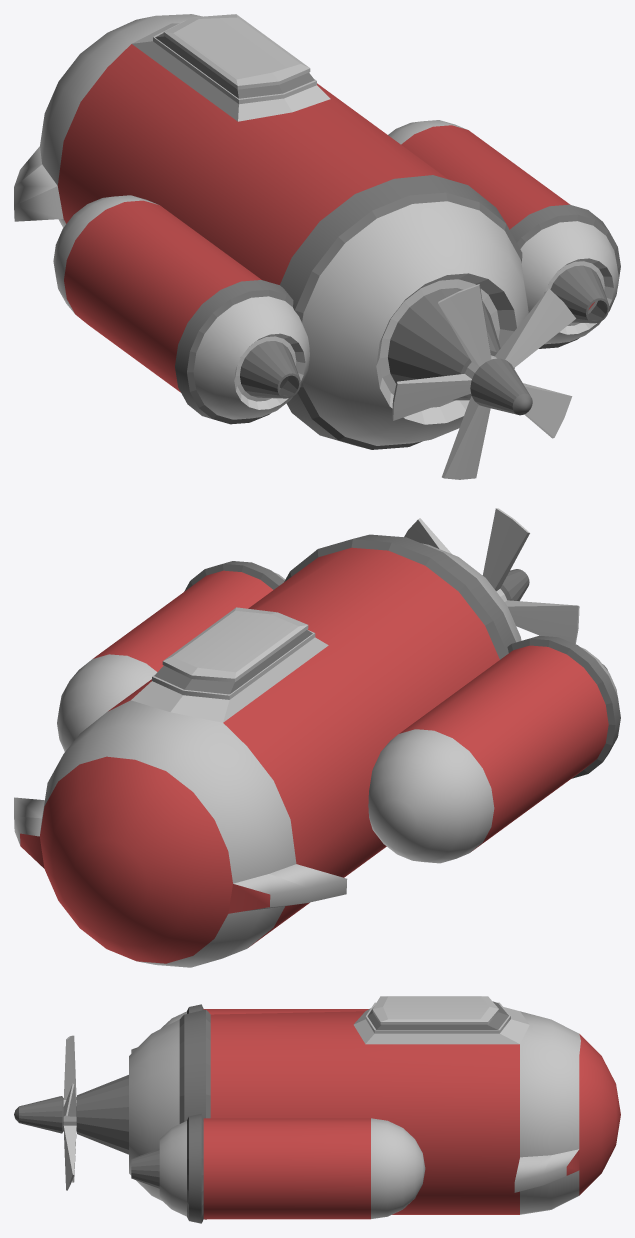
The model's file is Blimp.fbx.
3 renders of one model, top to bottom at view 1: azimuth 30°, elevation 25°; view 2: azimuth 150°, elevation 25°; view 3: azimuth 270°, elevation 25°, orthographic. The views are drawn at different scales.
Parts seen in each view (by area): view 1: Airship, LeftTank, RightTank, Propeller; view 2: Airship, LeftTank, RightTank, Propeller; view 3: Airship, RightTank, Propeller, LeftTank.
Part boxes in pixels (x1,y1,x2,y2): Airship: (14,14,532,449); LeftTank: (53,195,309,424); RightTank: (388,120,620,348); Propeller: (392,284,575,479); Airship: (14,534,529,967); LeftTank: (368,635,620,863); RightTank: (57,561,285,751); Propeller: (404,508,579,643); Airship: (14,996,620,1219); RightTank: (131,1113,425,1223); Propeller: (63,1035,76,1190); LeftTank: (131,1004,368,1053).
Size of the model in its own units: 21.93 by 13.35 by 36.
